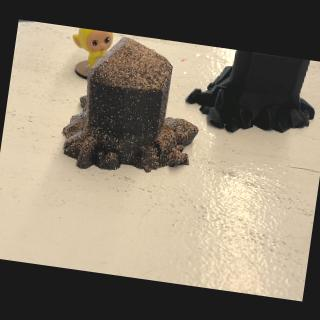teletubby: (72, 27, 112, 67)
